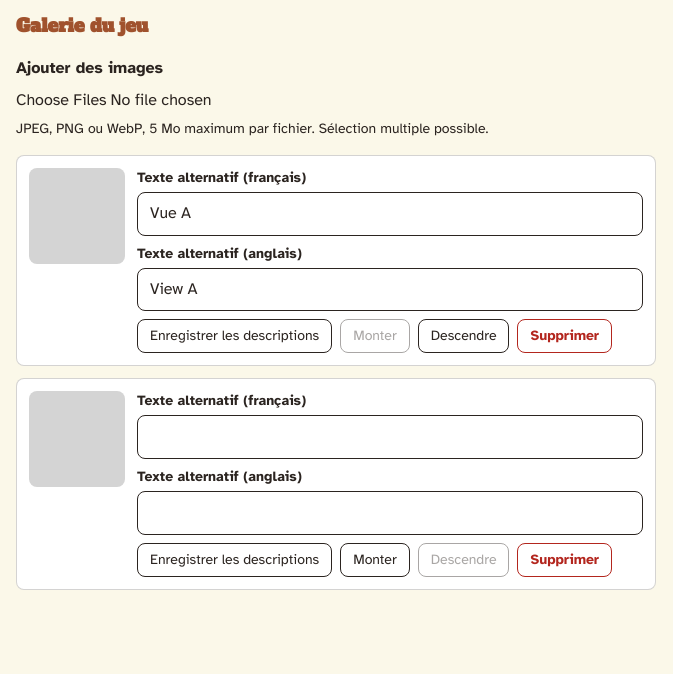
Test case: GameMediaManager — alt, tri, suppression › suppression partielle : ligne supprimée mais fichier orphelin signalé
Expected: the 1st field showing "Vue A" is shown, [137,192,643,236]
Click the 1st button "Supprimer".
click(565, 336)  # box [518,319,612,353]
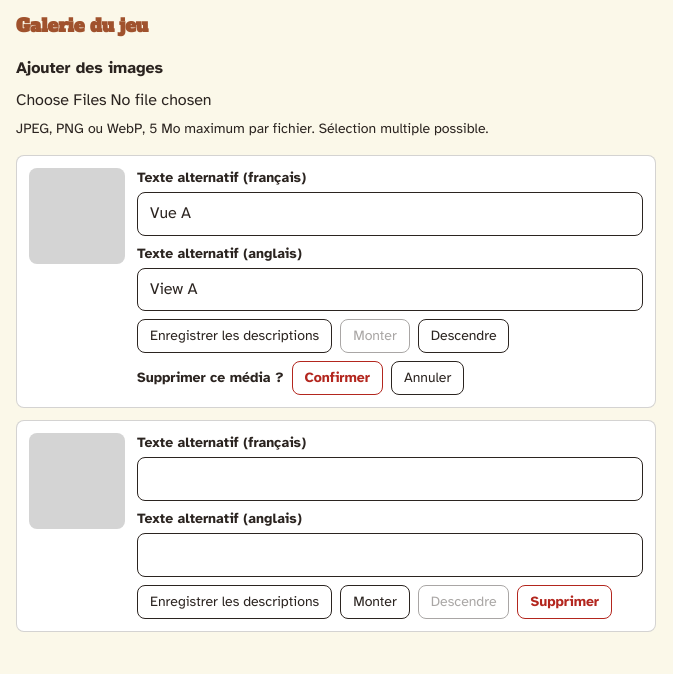
Click the button "Confirmer".
click(337, 378)  # box [292,361,383,395]
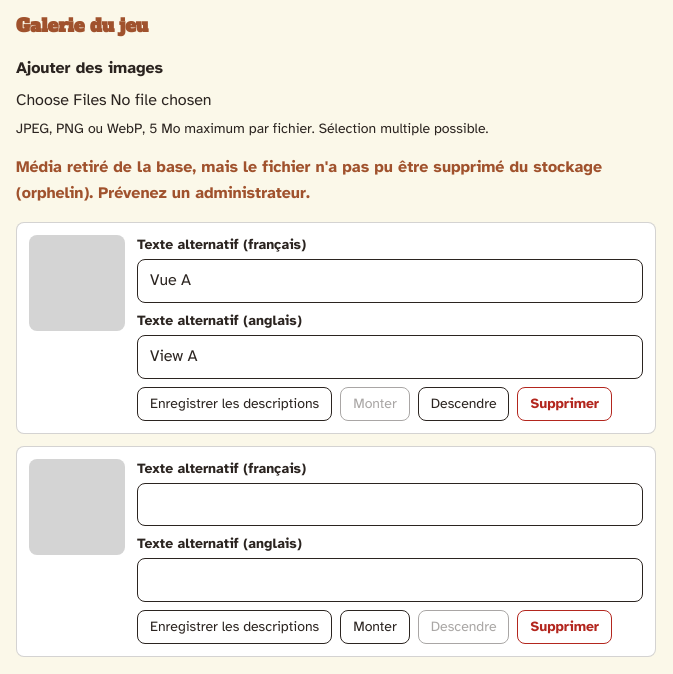
Expected: the text "Média retiré de la base, mais le fichier n'a pas pu être supprimé du stockage (orphelin). Prévenez un administrateur." is shown, [16,157,602,203]
